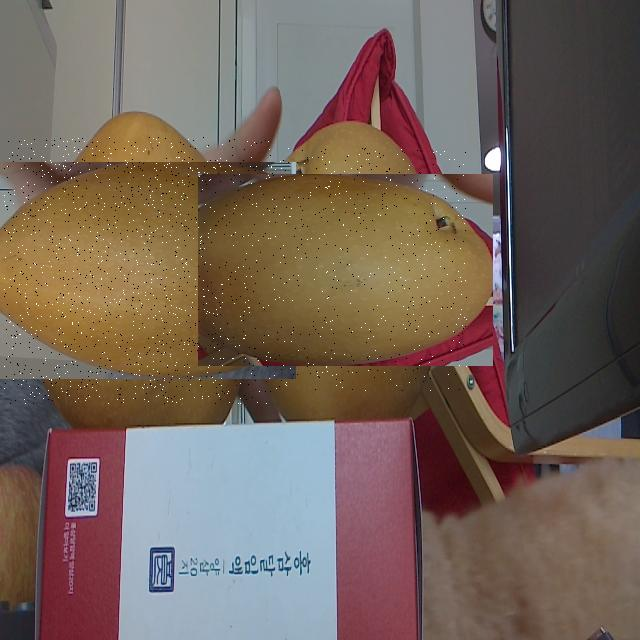pear: (4, 137, 271, 404), (223, 148, 467, 392)
